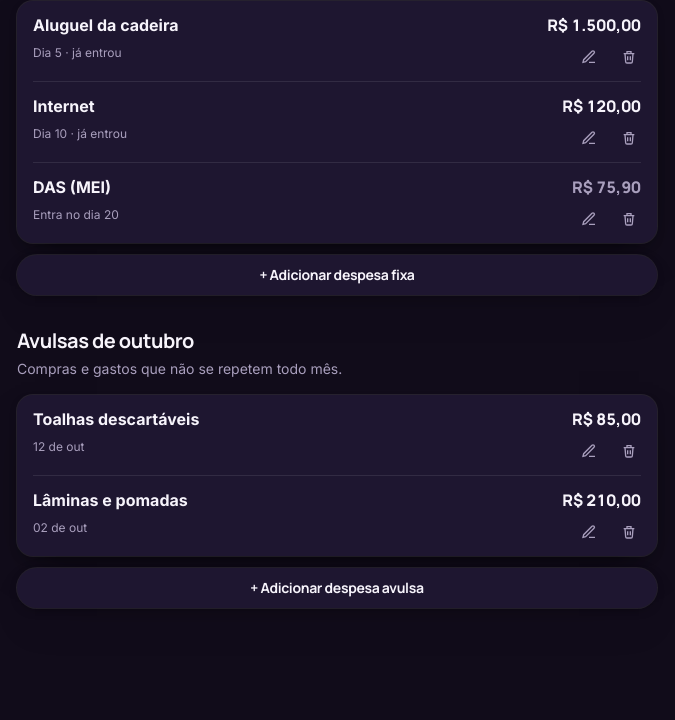
Test case: ExpensesView › edits a one-off expense
(page scrolled)
expect the text "Lâminas e pomadas" is shown: met, box x1=33 y1=490 x2=188 y2=510
Click the button named "Editar Lâminas e pomadas" at [589, 532], box x1=569 y1=512 x2=609 y2=552
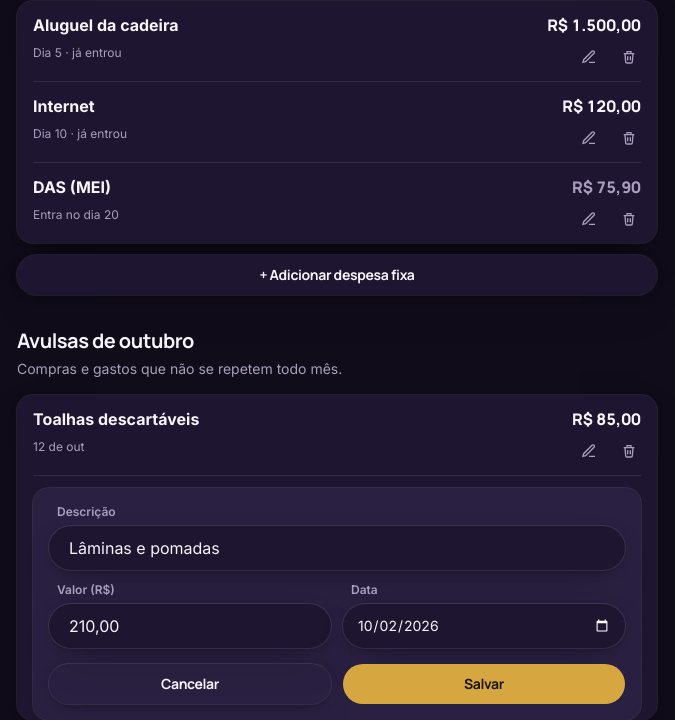
Replace the text in the field labelled "Descrição" with "Lâminas, pomadas e talco" at [337, 548], box x1=49 y1=526 x2=625 y2=570
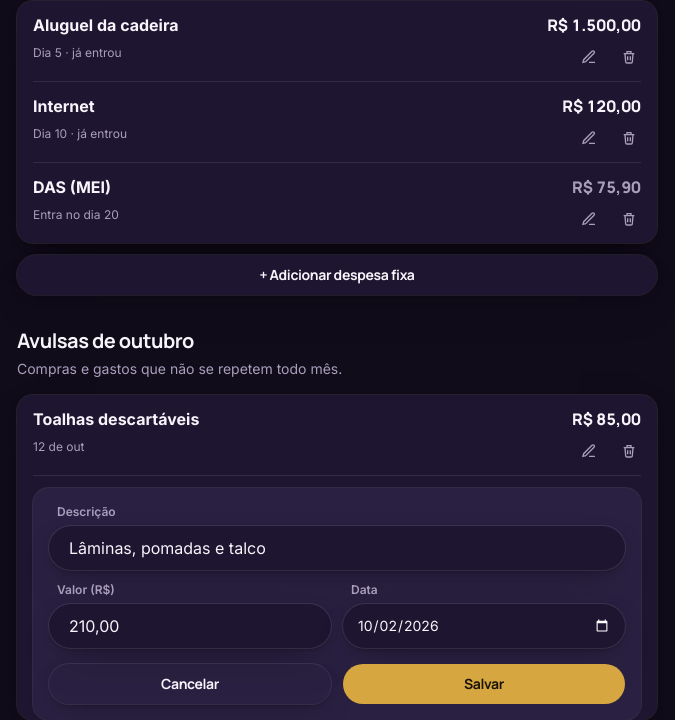
Replace the text in the field labelled "Valor (R$)" with "250,00" at [190, 626], box x1=49 y1=604 x2=331 y2=648
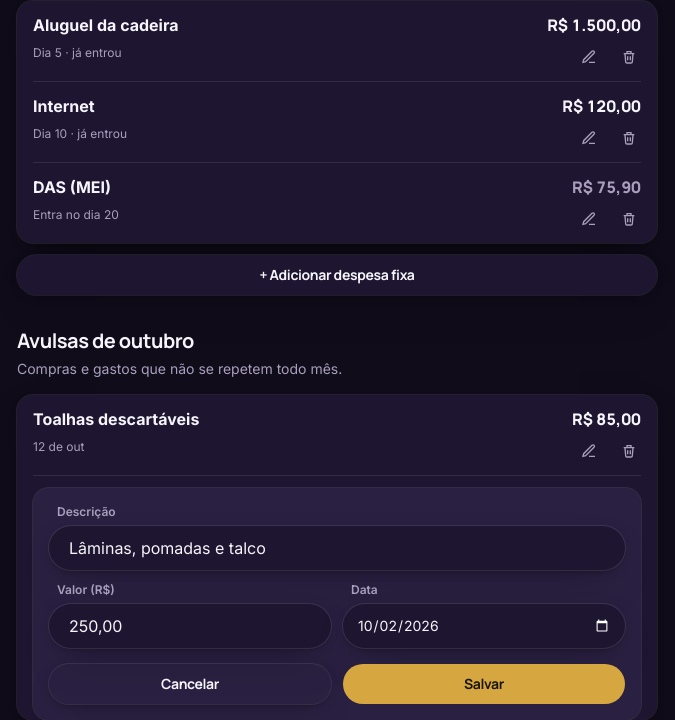
Click the button "Salvar" at [484, 684], box x1=343 y1=664 x2=625 y2=704
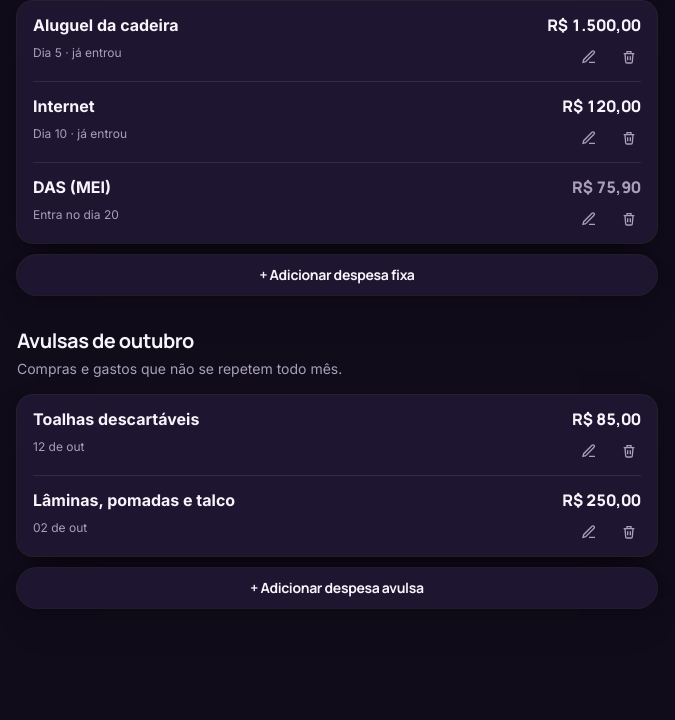
expect the text "Lâminas, pomadas e talco" is shown: met, box x1=33 y1=490 x2=235 y2=510
expect the text "R$ 250,00" is shown: met, box x1=562 y1=488 x2=641 y2=512
